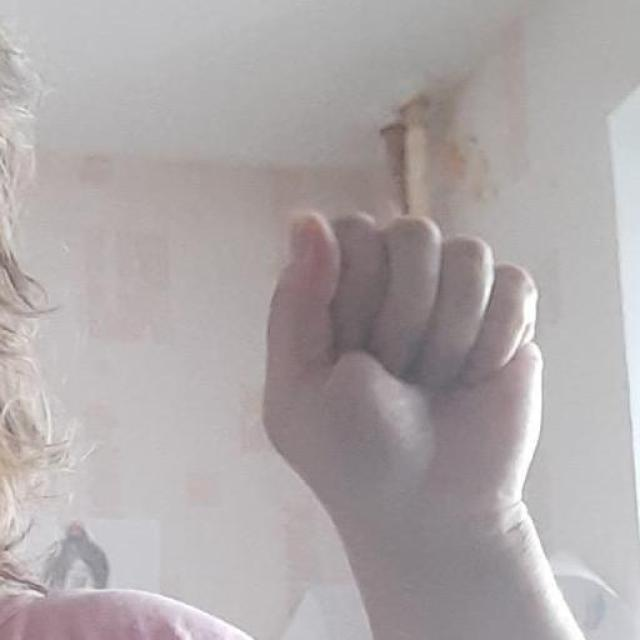hand: (258, 206, 594, 639)
